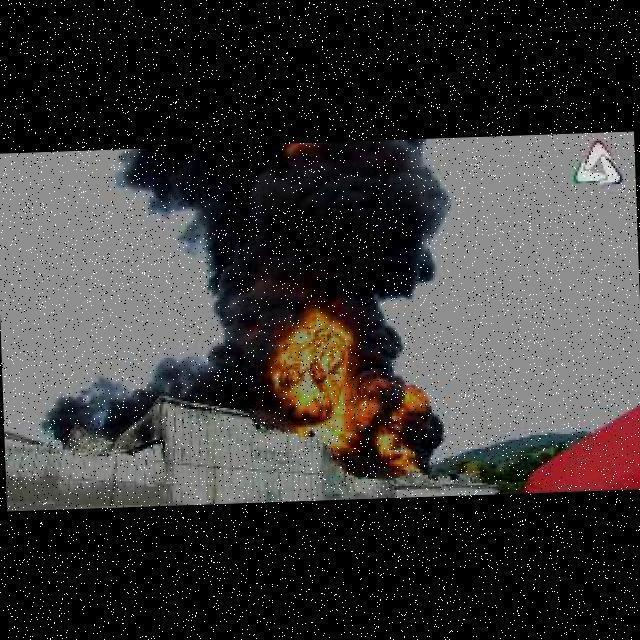Fire: (274, 310, 358, 450), (374, 374, 434, 476)
Smoke: (112, 135, 466, 323), (34, 338, 278, 448)
